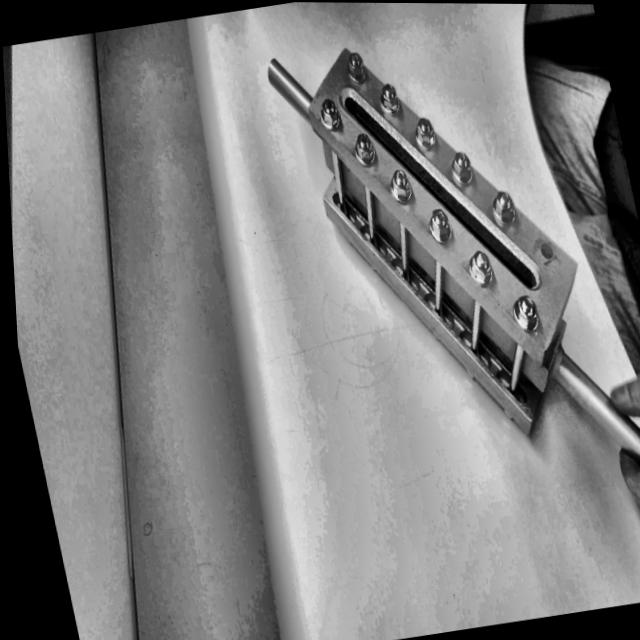ShuiWeiQi_11: (248, 1, 596, 436)
